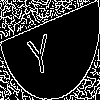Y: (25, 24, 54, 78)
